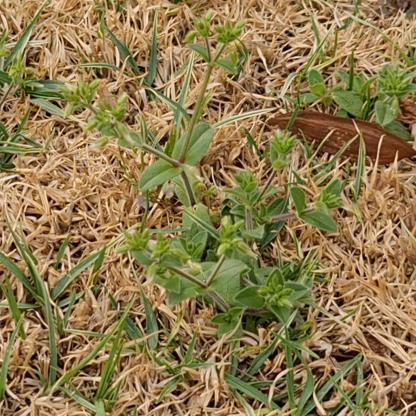Weeds: (58, 10, 345, 355), (298, 62, 415, 142)
